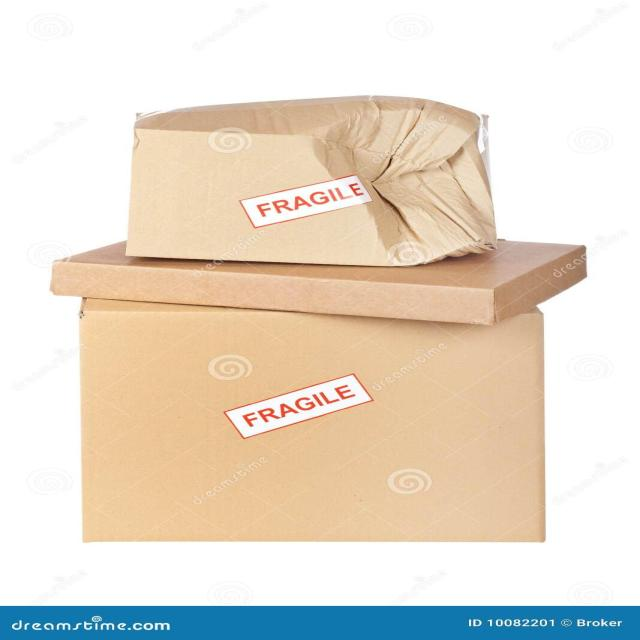Garbage: (116, 89, 514, 267)
Pathole: (57, 299, 557, 558), (45, 234, 599, 330)
